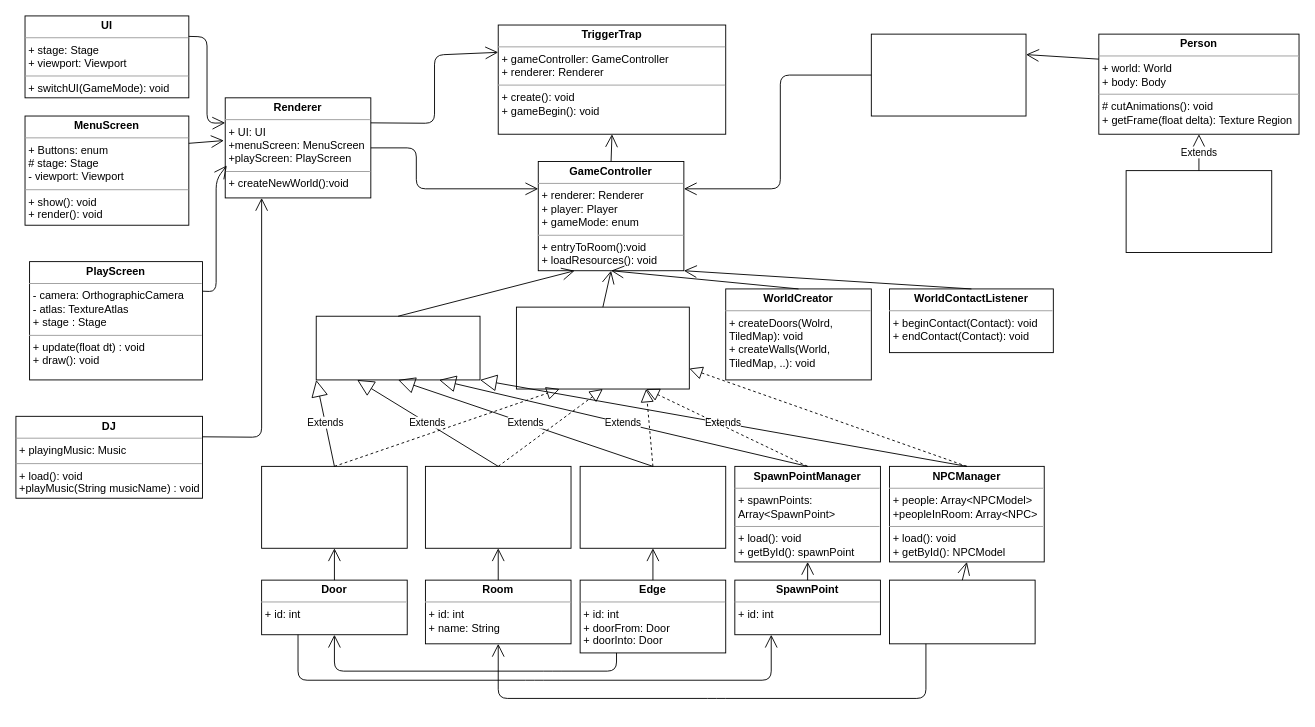
Image size: 1315x727. Some labels were removed from this diagram. The shapes that lost their labels are listed below. From the top down, each one's box as (x1, y1, x2, y2) in pixels, then its label:
(870, 33, 1026, 116): Player + person: Person + handleInput(float delta): void + doAction(): void
(1125, 170, 1272, 253): NPC + room: Room + setModel(Model):void
(315, 315, 480, 380): AbstractObjectManager + getElementsArray(String key): JSONArray
(516, 306, 689, 389): <<Interface>> MapObjectManager <T> + load(): void + getById(): <T>
(261, 465, 407, 548): DoorManager + doors: Array<Door> + load(): void + getById(): Door
(425, 465, 571, 548): RoomManager + rooms: Array<Room> + load(): void + getById(): Room
(579, 465, 726, 548): EdgeManager + edges: Array<Edge> + load(): void + getById(): Edge
(889, 579, 1035, 644): NPCModel + id: int + textureName: String
